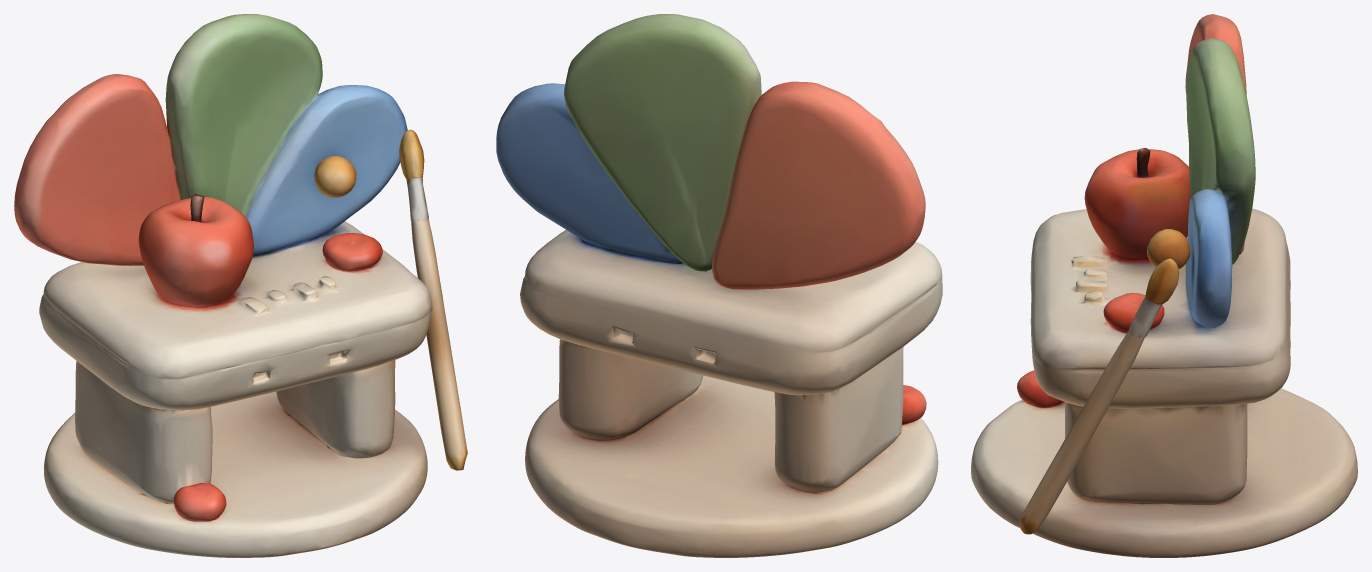
File: designer.glb
The picture shows the model from 3 angles, left to right: view 1: azimuth 30°, elevation 25°; view 2: azimuth 150°, elevation 25°; view 3: azimuth 270°, elevation 25°; orthographic projection. The views are drawn at different scales.
Visible parts, largest first — view 1: tripo_node_f6b79eca-c8a5-46f3-af38-3a124e73affe; view 2: tripo_node_f6b79eca-c8a5-46f3-af38-3a124e73affe; view 3: tripo_node_f6b79eca-c8a5-46f3-af38-3a124e73affe.
Boxes of the visible parts, left/top/right/bottom form: tripo_node_f6b79eca-c8a5-46f3-af38-3a124e73affe: left=14, top=14, right=467, bottom=557; tripo_node_f6b79eca-c8a5-46f3-af38-3a124e73affe: left=496, top=14, right=942, bottom=557; tripo_node_f6b79eca-c8a5-46f3-af38-3a124e73affe: left=971, top=14, right=1357, bottom=557.
Bounding box in the file's own units: 0.9166 × 0.9798 × 0.7789.
Materials: 1 (1 with a texture image).
